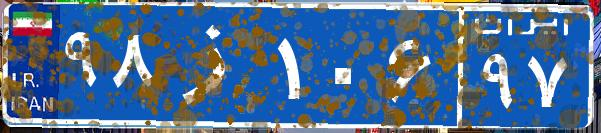0: (330, 28, 385, 110)
1: (273, 28, 330, 110)
6: (385, 28, 445, 110)
7: (525, 38, 570, 115)
8: (110, 28, 158, 105)
9: (57, 26, 110, 107), (475, 38, 525, 113)
ز: (158, 15, 273, 115)
